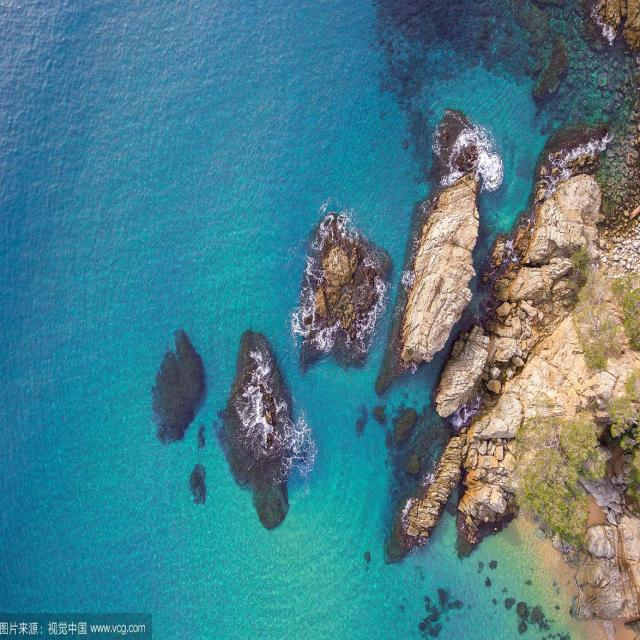reef: (441, 156, 640, 626), (422, 87, 539, 387), (199, 301, 305, 516), (286, 187, 400, 362), (155, 288, 221, 498)
